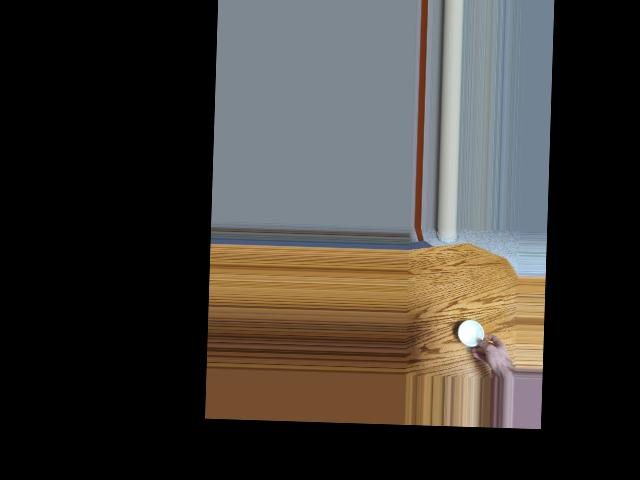cotage: (455, 319, 486, 346)
